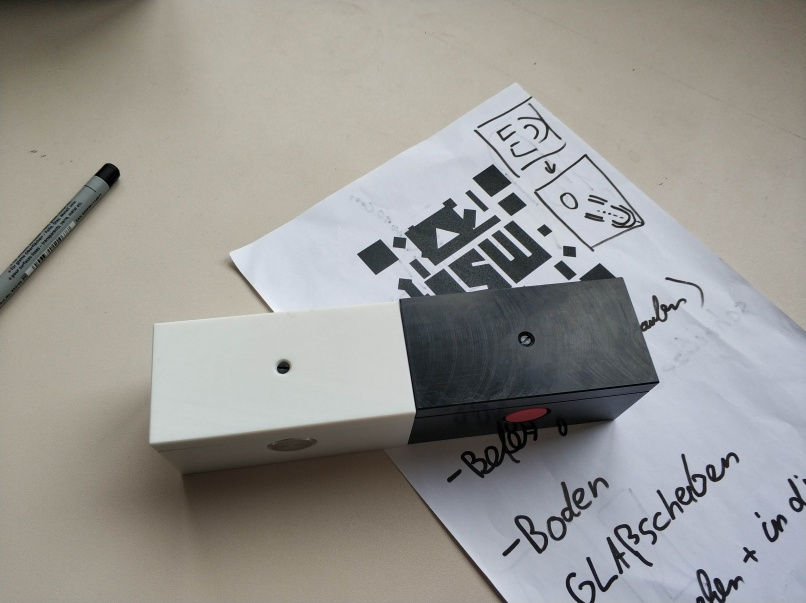black+black+red: (399, 273, 661, 446)
white+white+silver: (144, 296, 419, 477)
